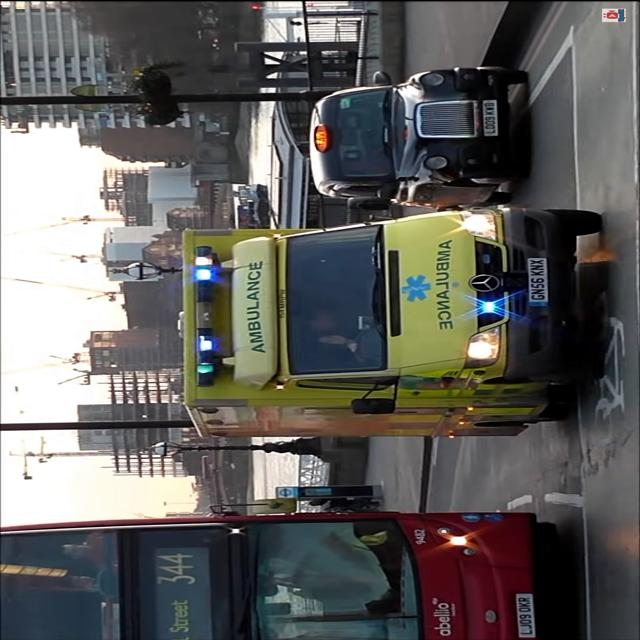emergency-vehicles: (173, 199, 609, 459), (298, 60, 530, 216)
